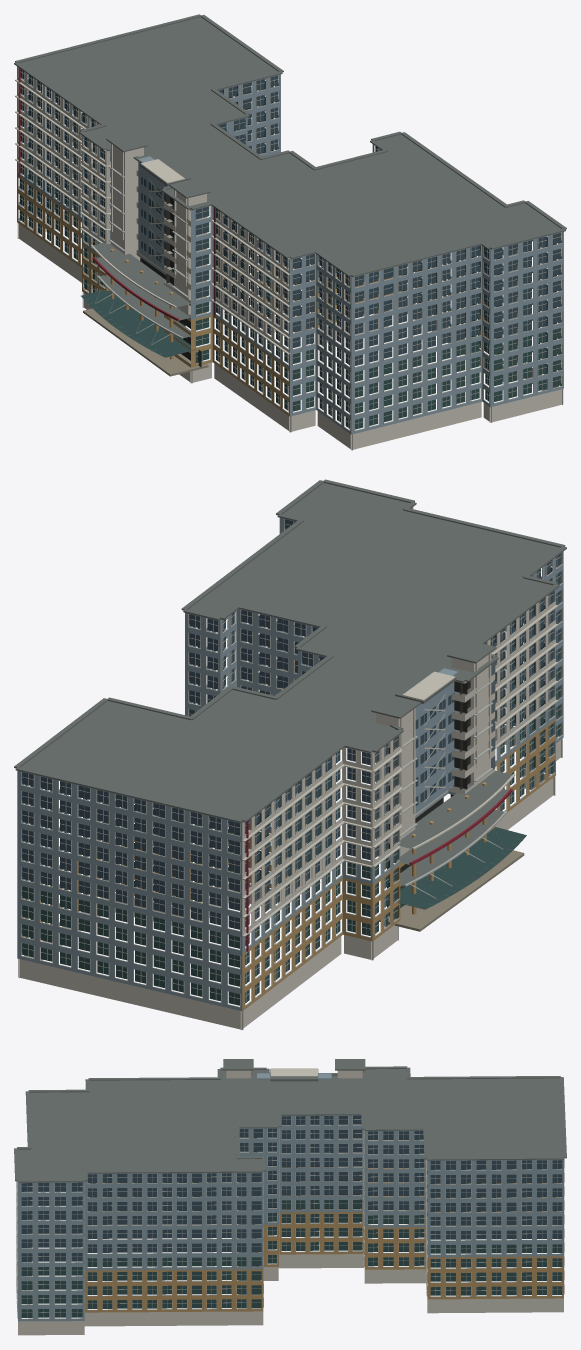
File: mjiit_lod0.glb
3 views of the same model, one above another, from view 1: azimuth 30°, elevation 25°; view 2: azimuth 150°, elevation 25°; view 3: azimuth 270°, elevation 25° (orthographic). The views are drawn at different scales.
Parts seen in each view (by area): view 1: DarkMetal, Ivory, BluePlaster, GlassBlue, GlassGreen, Silver, Ochre, Paving, Wine, Shadow; view 2: DarkMetal, Ivory, BluePlaster, GlassBlue, GlassGreen, Silver, Ochre, Paving, Shadow, Wine; view 3: DarkMetal, BluePlaster, GlassBlue, Ivory, GlassGreen, Ochre, Silver, Shadow.
Part boxes in pixels (bbox=[...]): DarkMetal: bbox=[14, 14, 566, 354]; Ivory: bbox=[15, 66, 563, 450]; BluePlaster: bbox=[17, 74, 563, 434]; GlassBlue: bbox=[20, 69, 561, 365]; GlassGreen: bbox=[19, 145, 561, 429]; Silver: bbox=[15, 70, 562, 430]; Ochre: bbox=[17, 175, 503, 416]; Paving: bbox=[83, 308, 208, 376]; Wine: bbox=[18, 68, 215, 320]; Shadow: bbox=[140, 194, 190, 360]; DarkMetal: bbox=[14, 479, 566, 916]; Ivory: bbox=[18, 507, 562, 1029]; BluePlaster: bbox=[17, 507, 563, 1010]; GlassBlue: bbox=[21, 519, 560, 929]; GlassGreen: bbox=[21, 628, 560, 1005]; Silver: bbox=[21, 521, 562, 1007]; Ochre: bbox=[21, 660, 555, 1010]; Paving: bbox=[379, 850, 524, 931]; Shadow: bbox=[389, 680, 470, 888]; Wine: bbox=[246, 788, 512, 951]; DarkMetal: bbox=[14, 1059, 566, 1210]; BluePlaster: bbox=[17, 1073, 563, 1321]; GlassBlue: bbox=[21, 1115, 562, 1261]; Ivory: bbox=[16, 1068, 564, 1335]; GlassGreen: bbox=[21, 1167, 562, 1317]; Ochre: bbox=[84, 1168, 563, 1312]; Silver: bbox=[16, 1116, 562, 1319]; Shadow: bbox=[254, 1124, 359, 1209].
Size of the model in its own units: 63.43 by 38.37 by 117.
